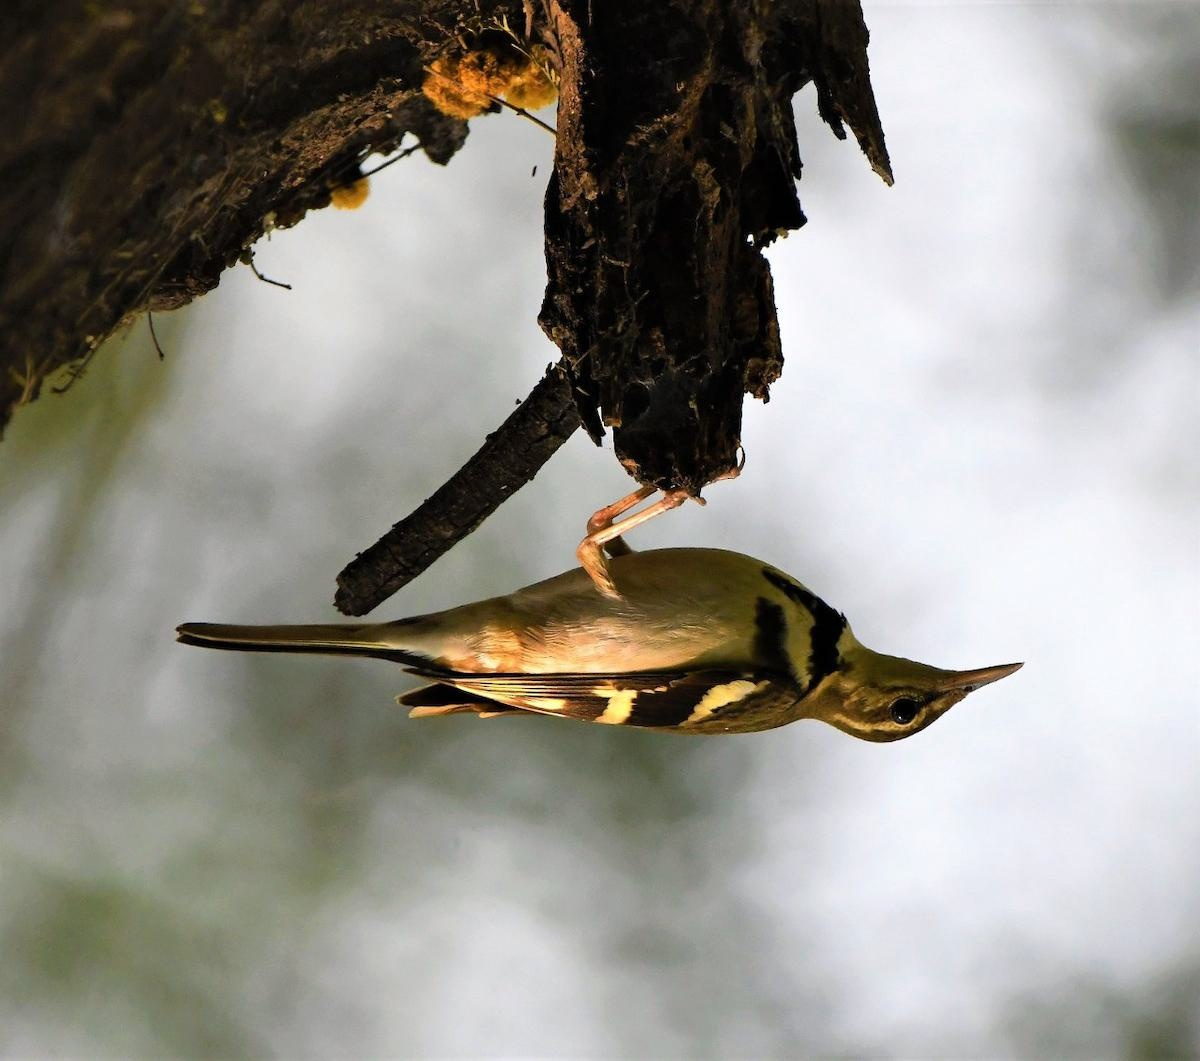wagtail: (231, 406, 1064, 801)
